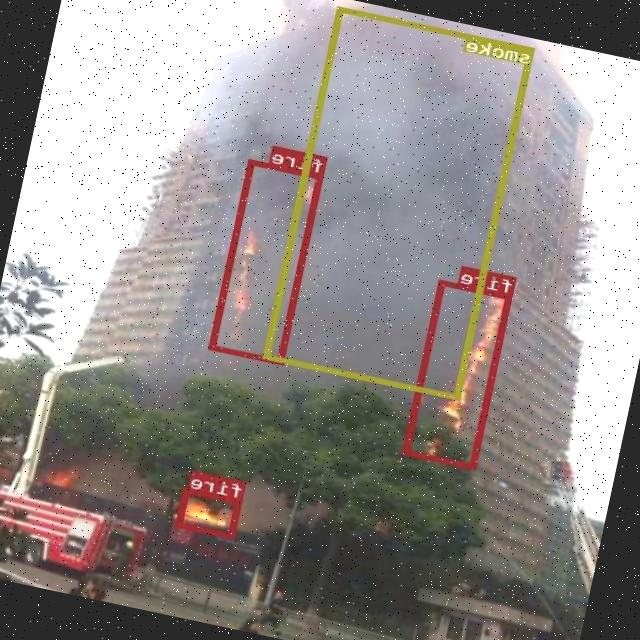fire: (210, 158, 325, 365), (404, 279, 514, 469), (176, 488, 242, 538)
smoke: (264, 6, 534, 400)
